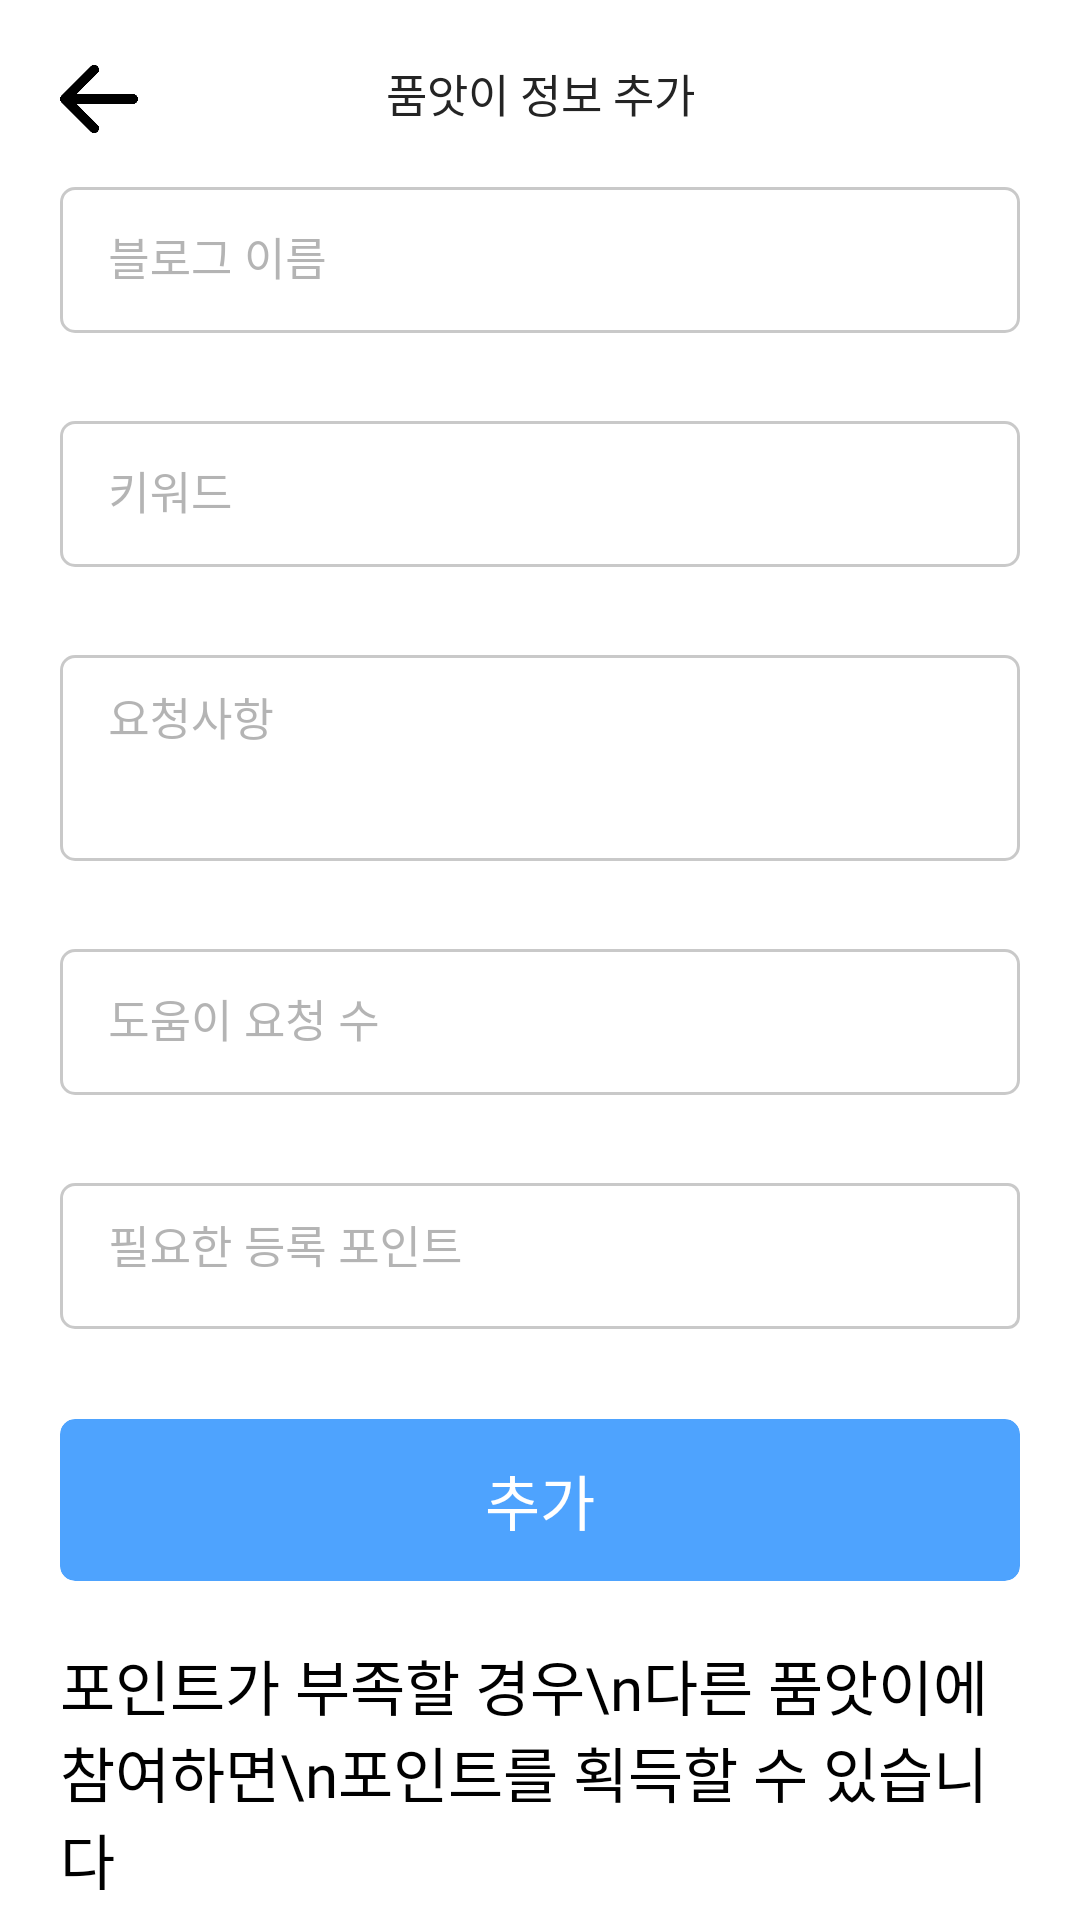

Point at icon controls on the screen. Image size 1080px x 1920px, points as point (x, y).
back: point (99, 99)
